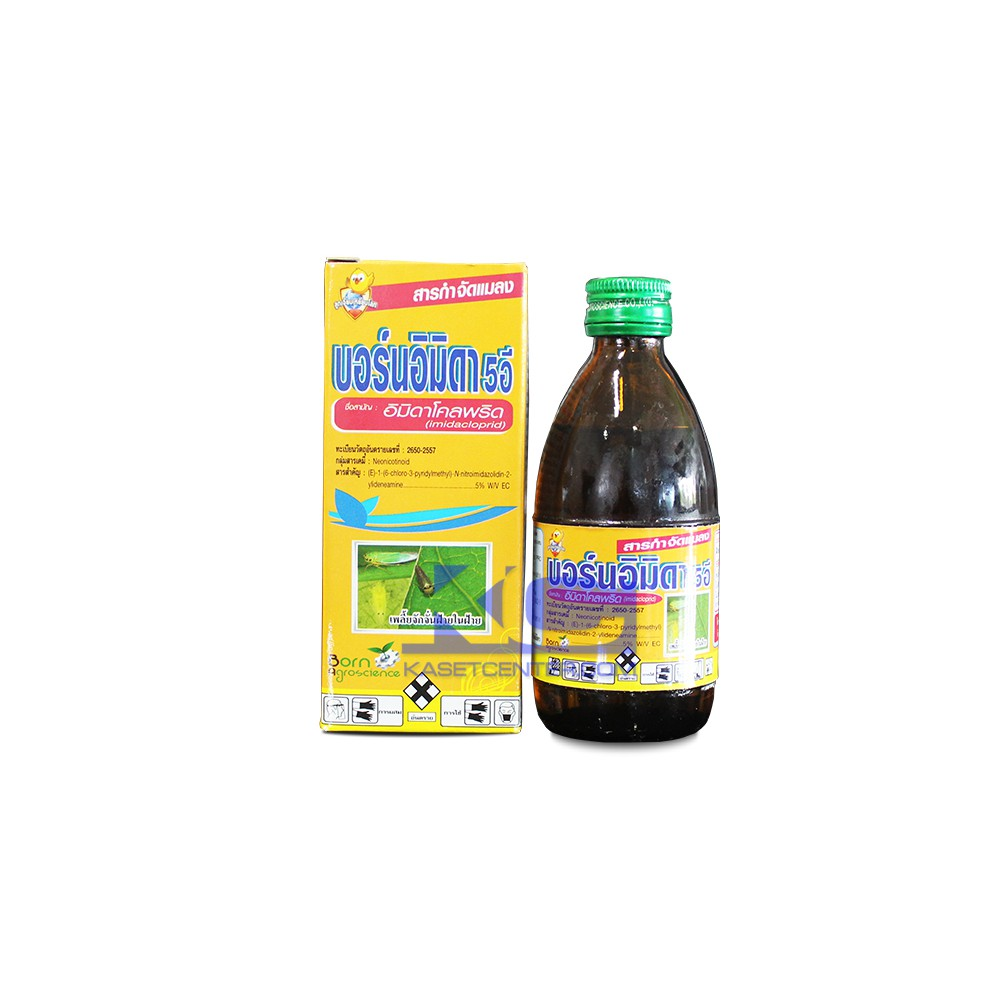Insecticide: (526, 268, 731, 752)
